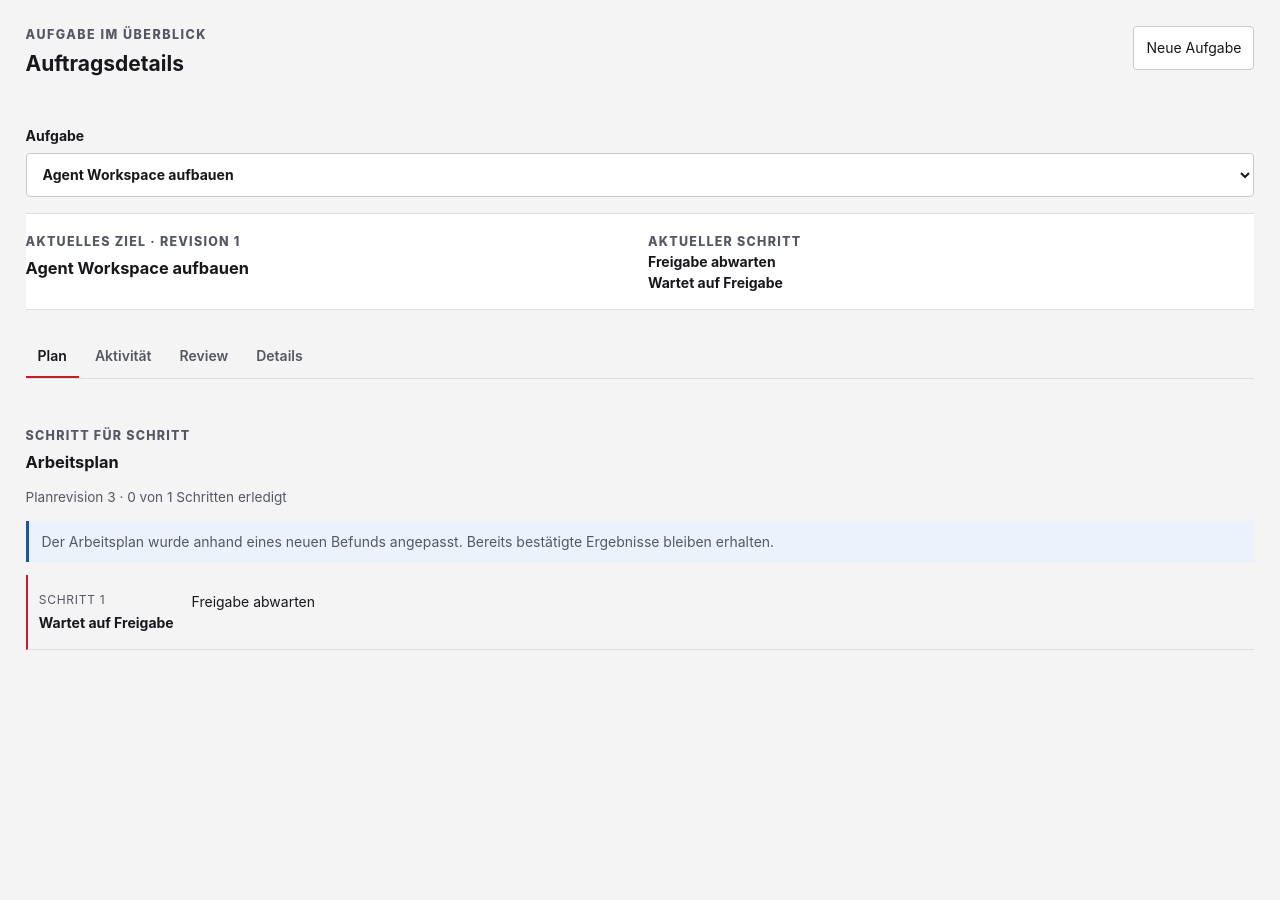
Scenario: AgentGoalWorkspace › shows bounded budget, blockers, and separates model selection from execution
The width and height of the screenshot is (1280, 900).
Click the button "Aktivität": (123,356) 83,334 -> 164,378
(page scrolled)
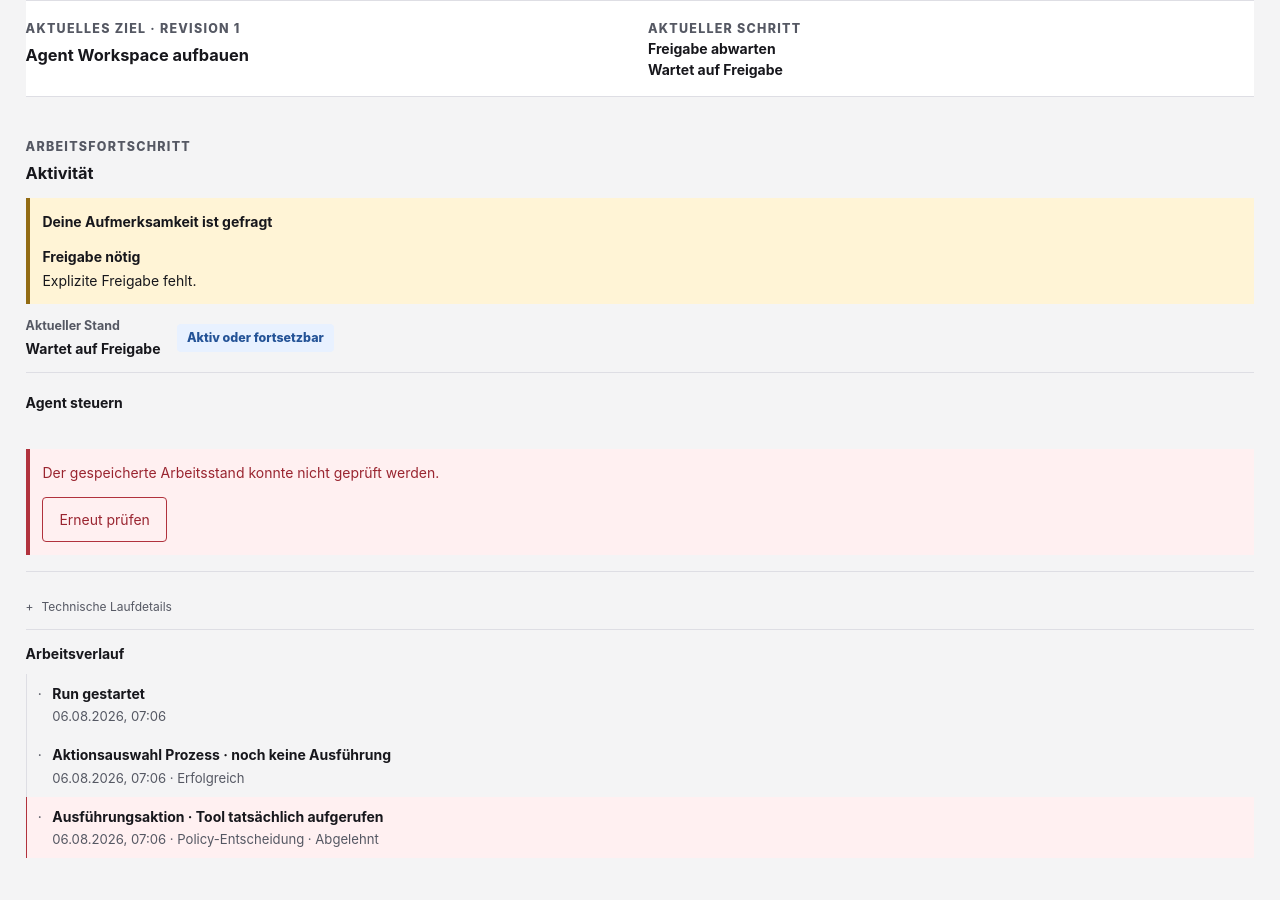
expect the text "Explizite Freigabe fehlt." is shown: met, box 42,272 -> 196,289
expect the text "Aktionsauswahl Prozess · noch keine Ausführung" is shown: met, box 52,746 -> 391,763
expect the text "Ausführungsaktion · Tool tatsächlich aufgerufen" is shown: met, box 52,808 -> 384,825
Click the heading "Technische Laufdetails": (107,606) 42,599 -> 172,614
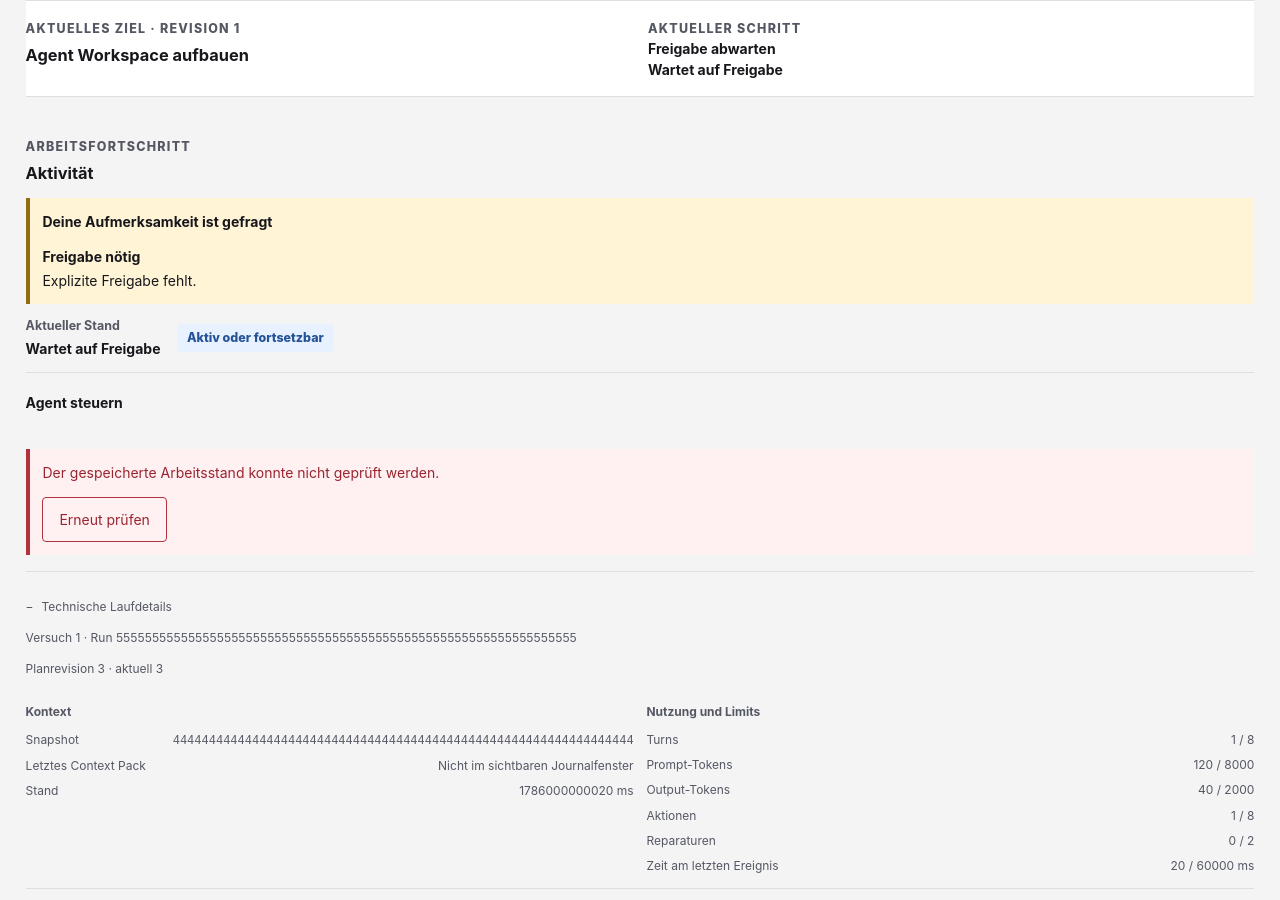
expect the text "Aktiv oder fortsetzbar" is shown: met, box 176,324 -> 334,352
expect the heading "Nutzung und Limits" is shown: met, box 646,704 -> 760,719
expect the text "1 / 8" is shown 2 times: met, box 1231,731 -> 1254,749; 1231,807 -> 1254,825
